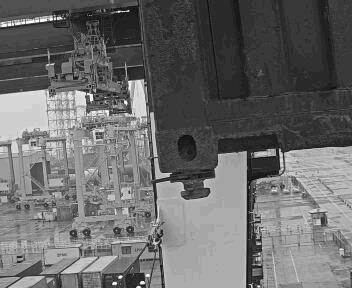twist_lock_1: (180, 164, 239, 201)
